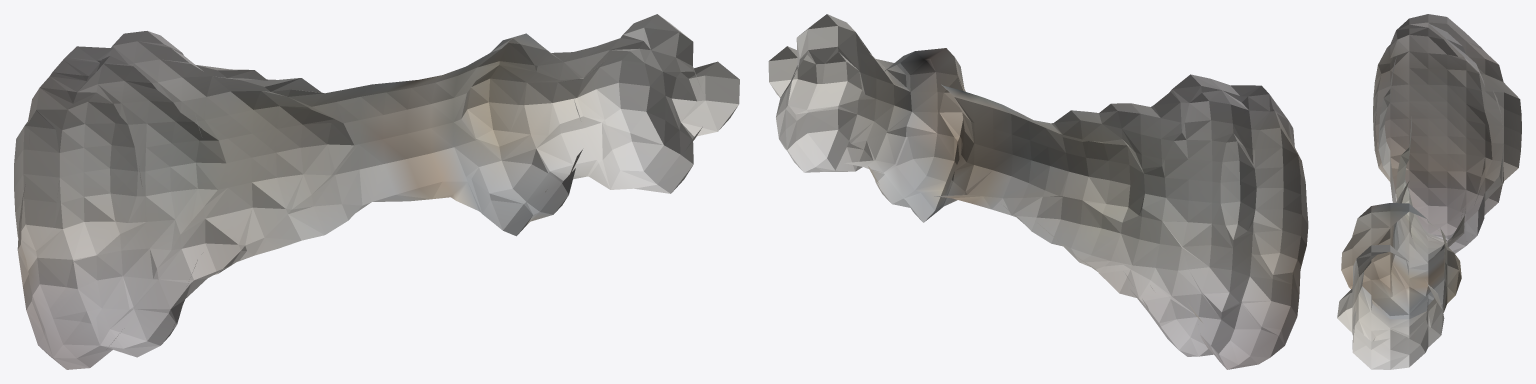
Rendered from queen.glb.
3 views of the same model, side by side, from view 1: azimuth 30°, elevation 25°; view 2: azimuth 150°, elevation 25°; view 3: azimuth 270°, elevation 25° (orthographic). The views are drawn at different scales.
Parts seen in each view (by area): view 1: world; view 2: world; view 3: world.
Part boxes in pixels (x1,y1,x2,y2): world: (14, 14, 739, 369); world: (768, 14, 1308, 369); world: (1337, 14, 1521, 369).
Size of the model in its own units: 1.03 by 0.4794 by 0.36.
